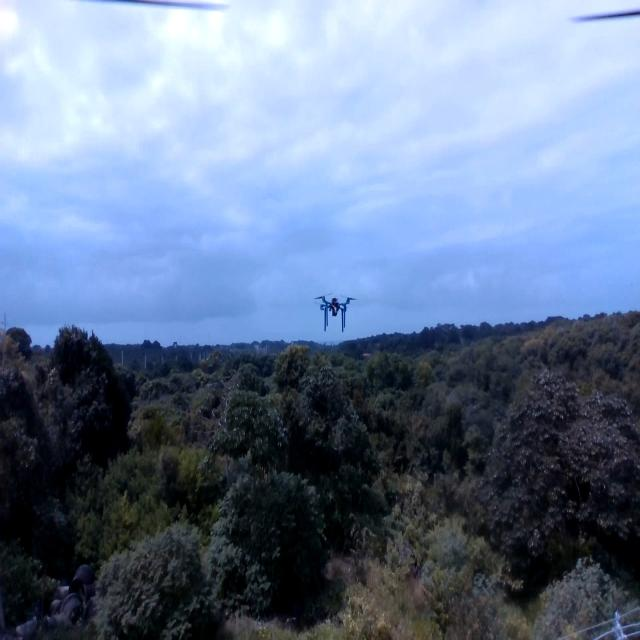-uav-: (312, 282, 359, 341)
